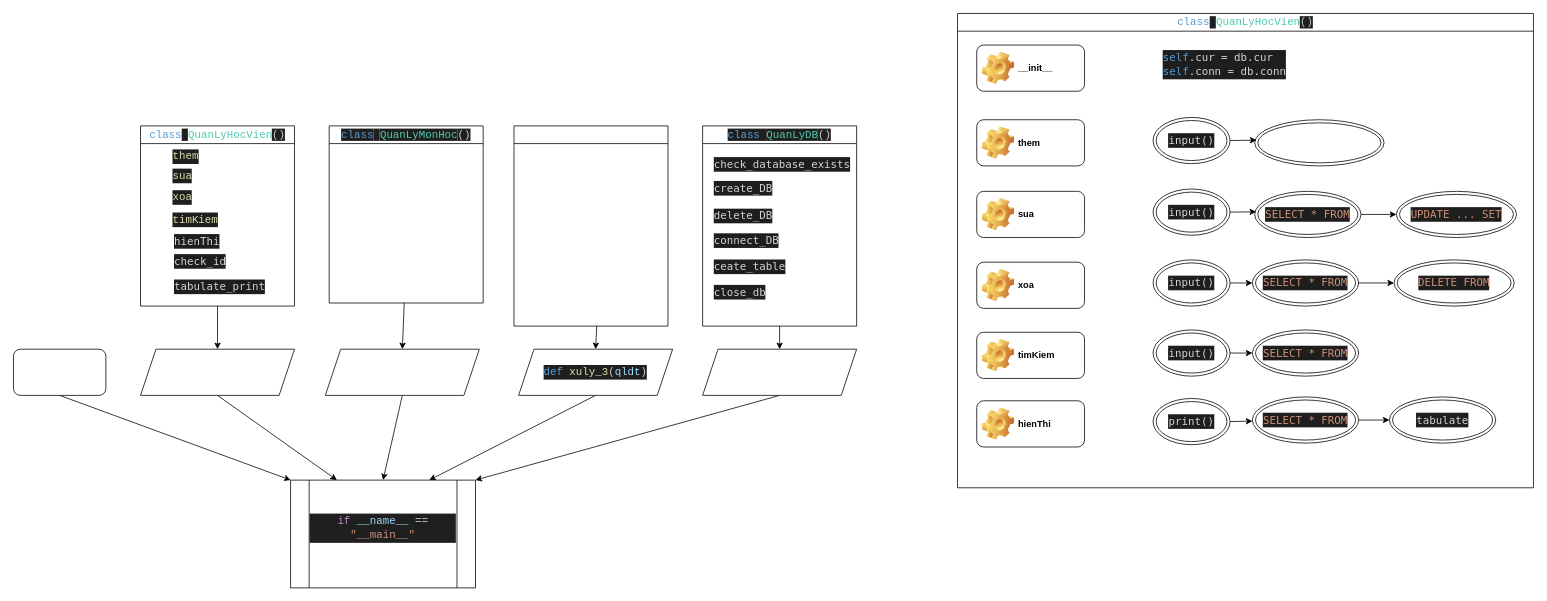
Image size: 1547x601. Some labels were removed from this diagram. The shapes that lost their labels are listed below. From the top down, each one's centre as x and y in pixels, then its label:
point (1319, 142): INSERT INTO
point (590, 225): class QuanLyDiemThi ()
point (59, 371): Menu
point (217, 371): def xuly_1 ( qlhv )
point (402, 371): def xuly_2 ( qlmh )
point (779, 371): def database ( )
